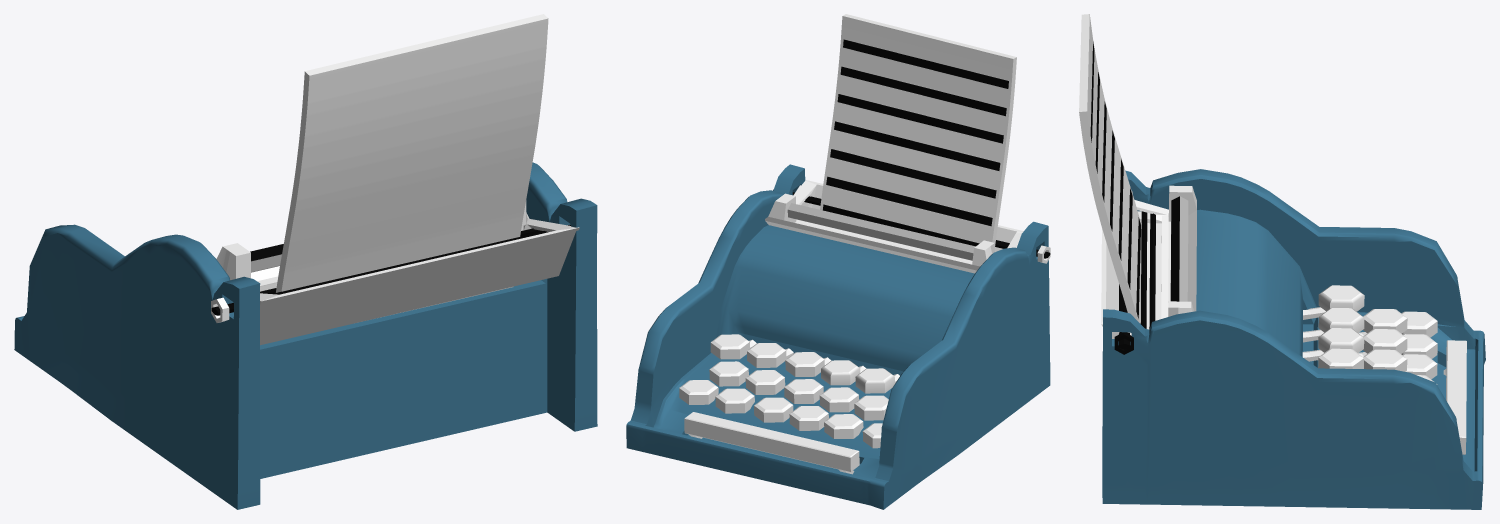
The model's file is typewriter.glb.
3 views of the same model, side by side, from view 1: azimuth 30°, elevation 25°; view 2: azimuth 150°, elevation 25°; view 3: azimuth 270°, elevation 25° (orthographic). The views are drawn at different scales.
Visible parts, largest first — view 1: typewriter; view 2: typewriter; view 3: typewriter.
Boxes of the visible parts, <box> form: typewriter: <box>14,14,597,509</box>; typewriter: <box>626,14,1050,509</box>; typewriter: <box>1079,14,1485,509</box>.
Size of the model in its own units: 1.23 by 1.37 by 1.36.
